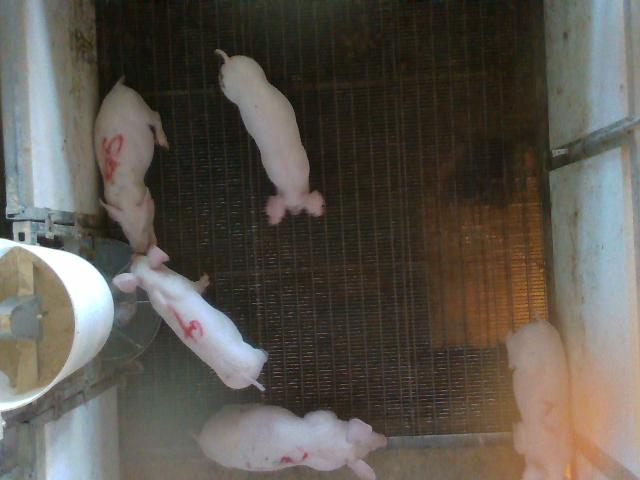pig-2: (506, 320, 572, 479)
pig-3: (198, 405, 386, 479)
pig-4: (115, 245, 268, 391)
pig-5: (95, 76, 169, 253)
